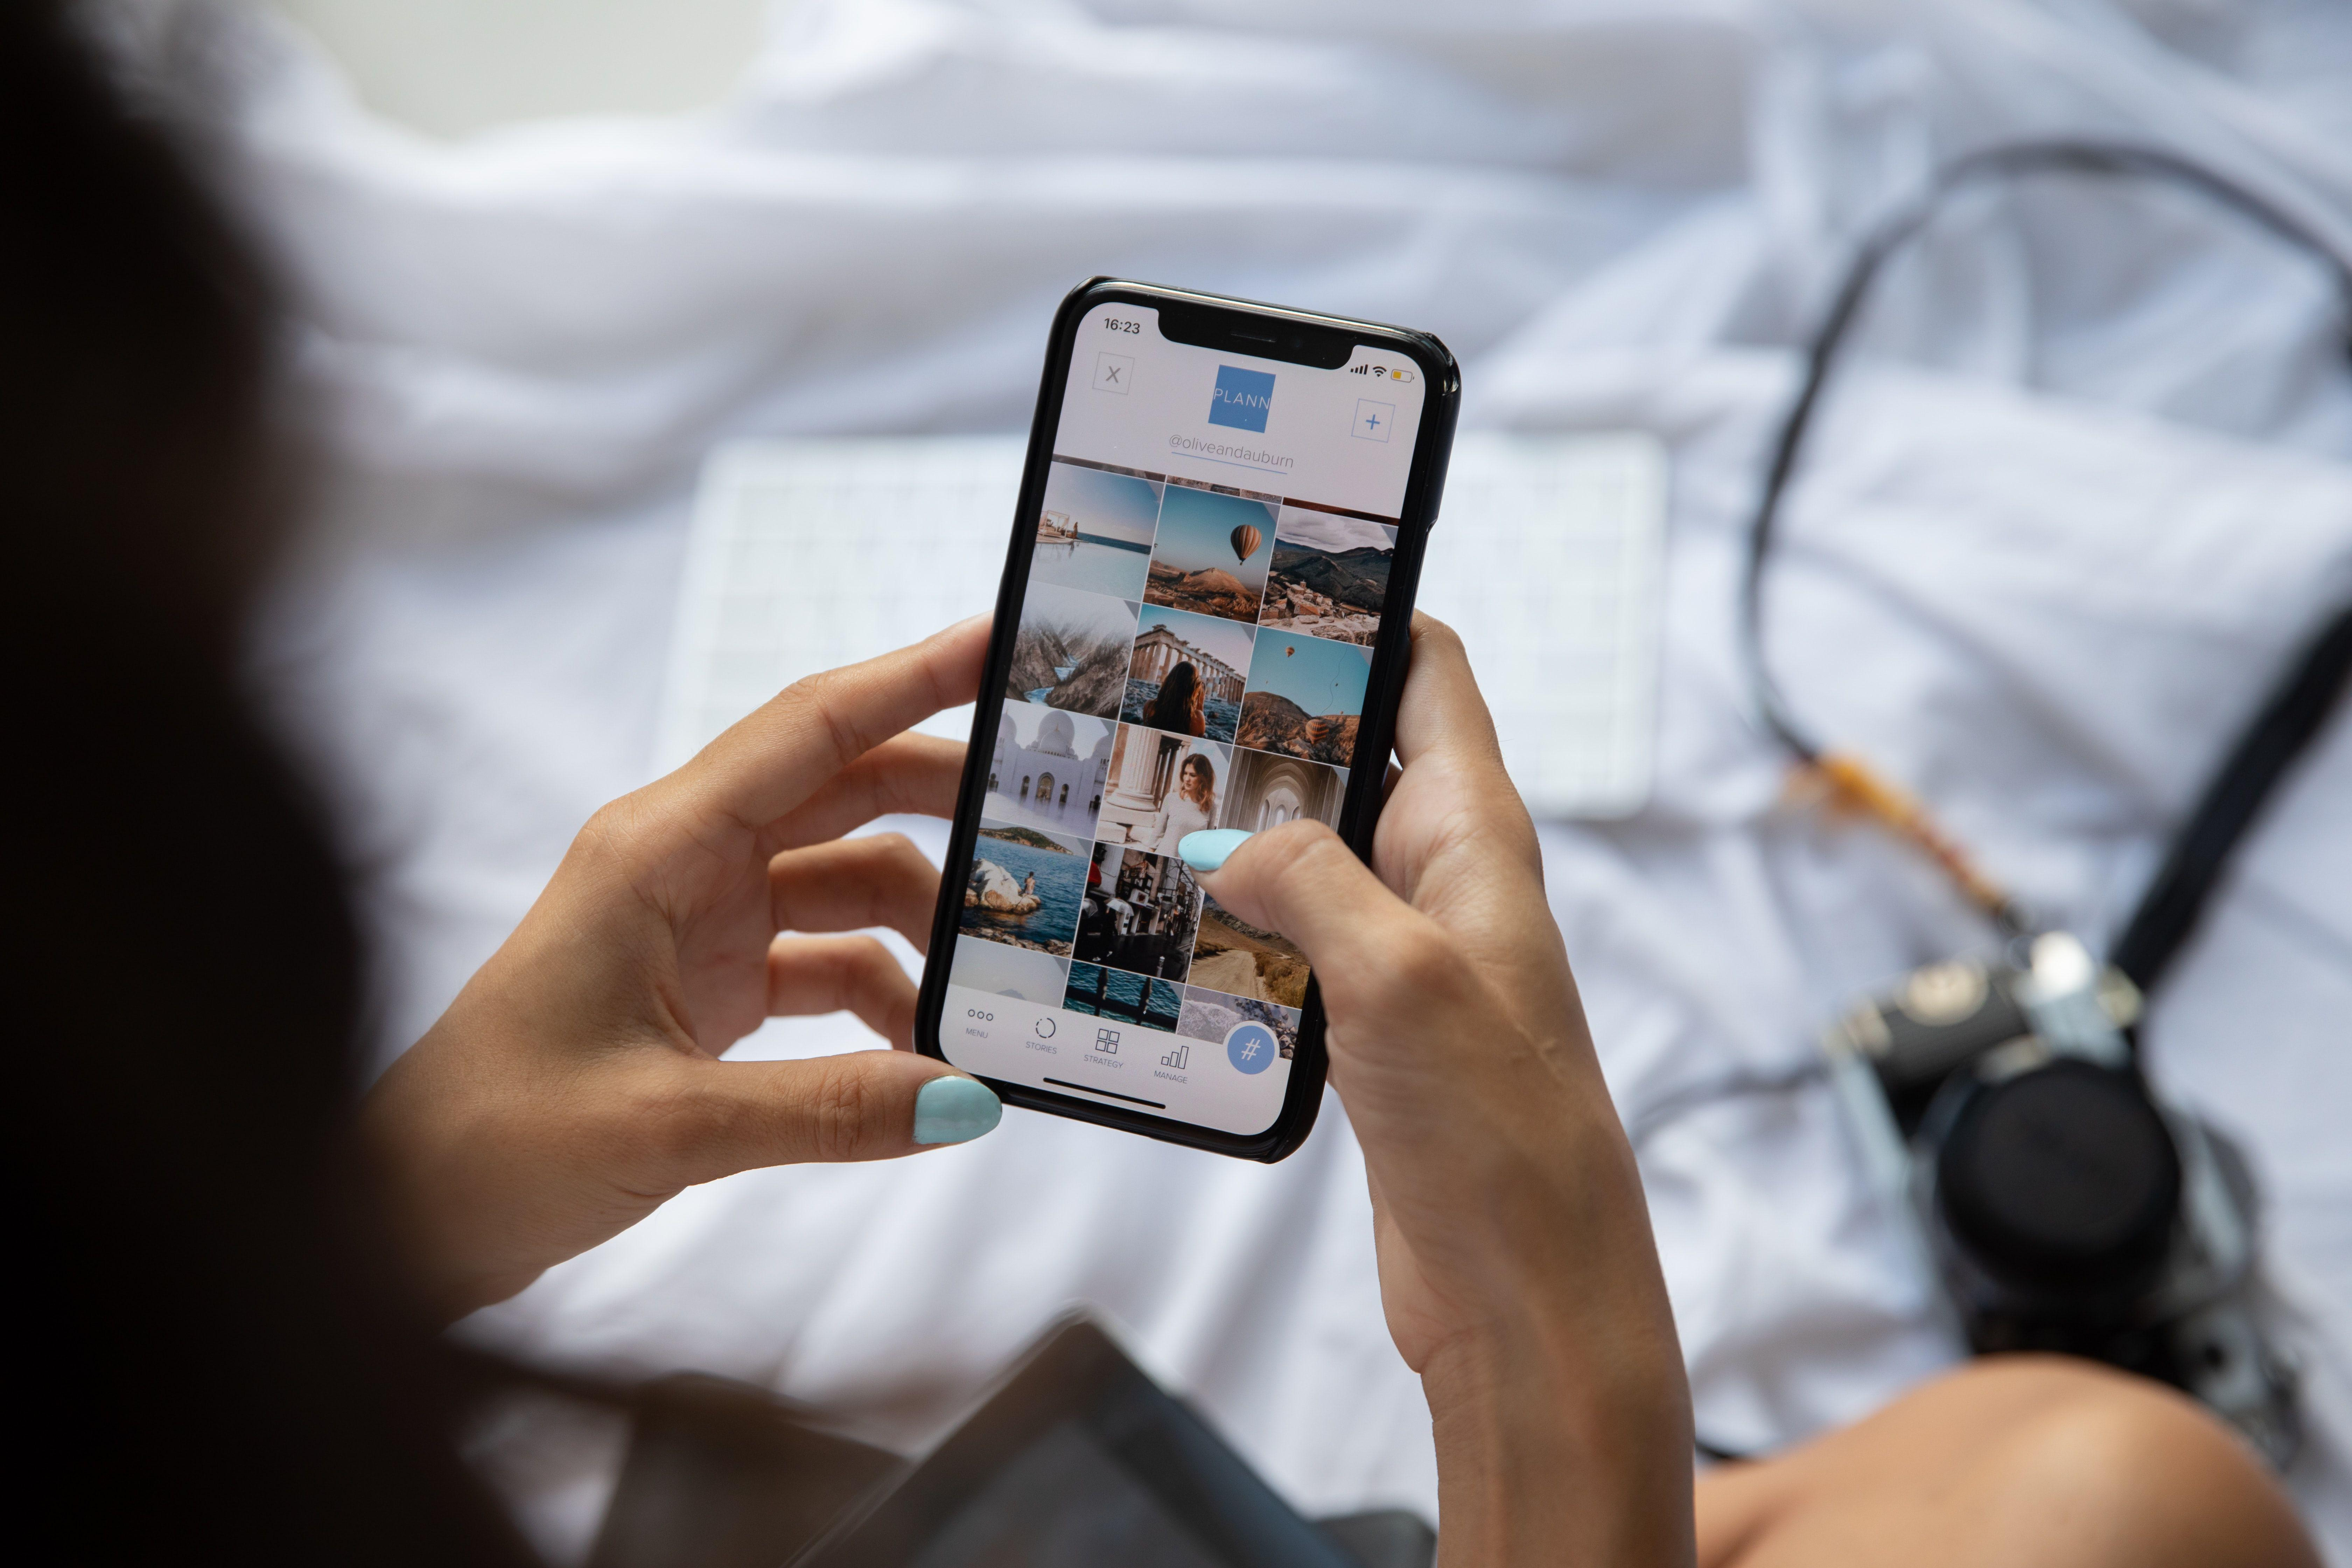Hand: (485, 577, 1102, 1207), (1183, 623, 1601, 1281)
Smartphone: (878, 322, 1468, 1130)
